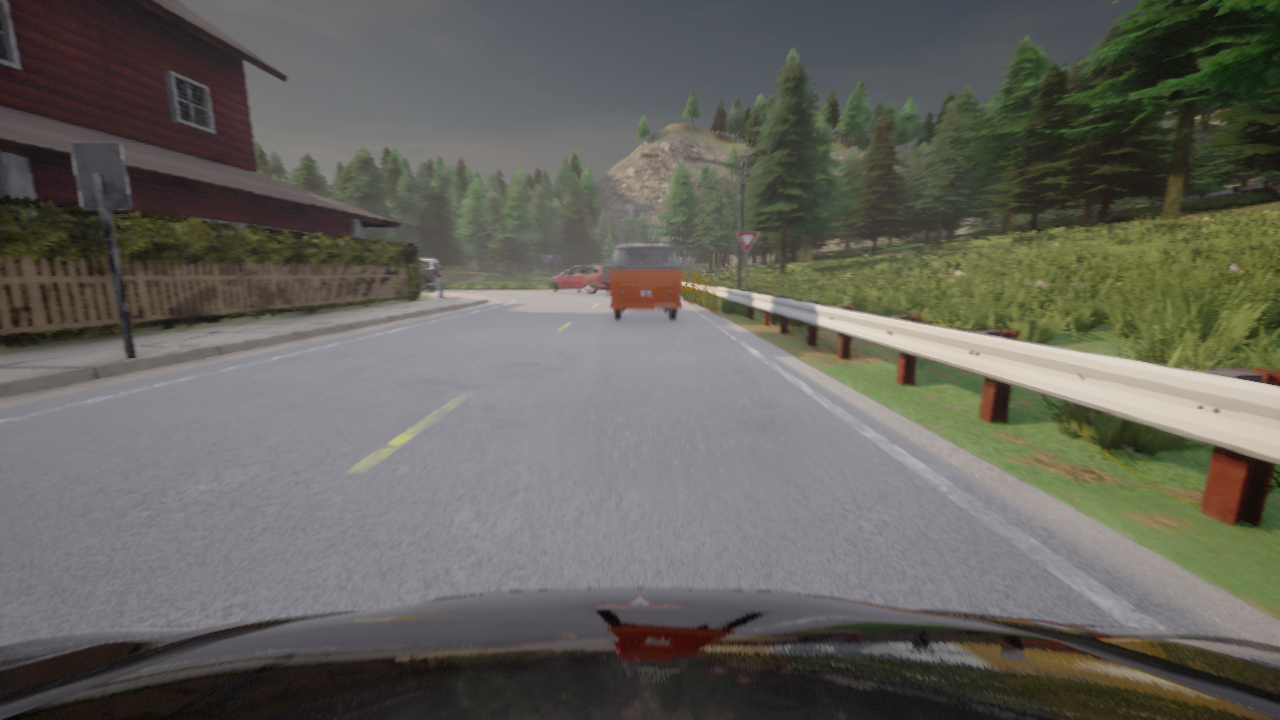cyclist: (0, 588, 1279, 719), (611, 243, 680, 319), (549, 264, 611, 294), (419, 257, 444, 290)
